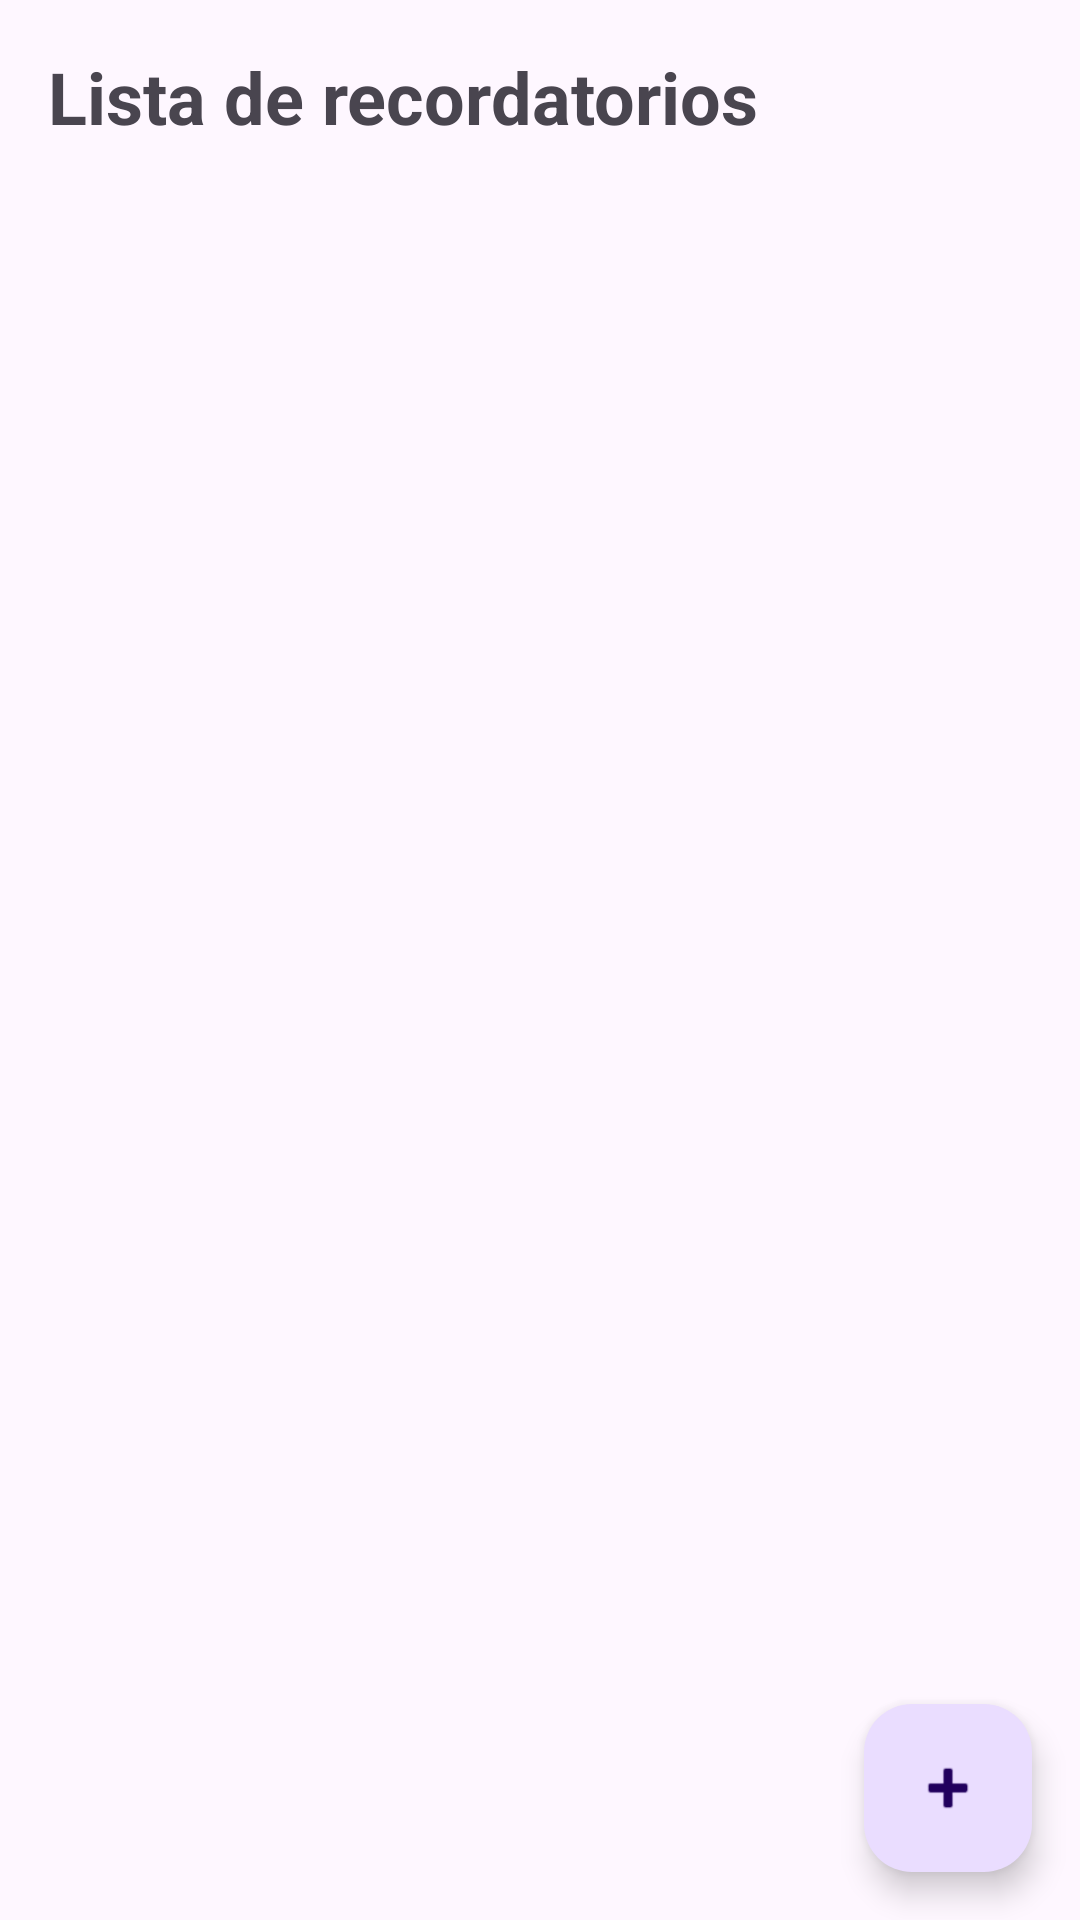

Where icons sit on this 1080×1920 app screen, as (x1, y1, x2, y2):
Añadir nueva tarea: (864, 1704, 1032, 1872)
